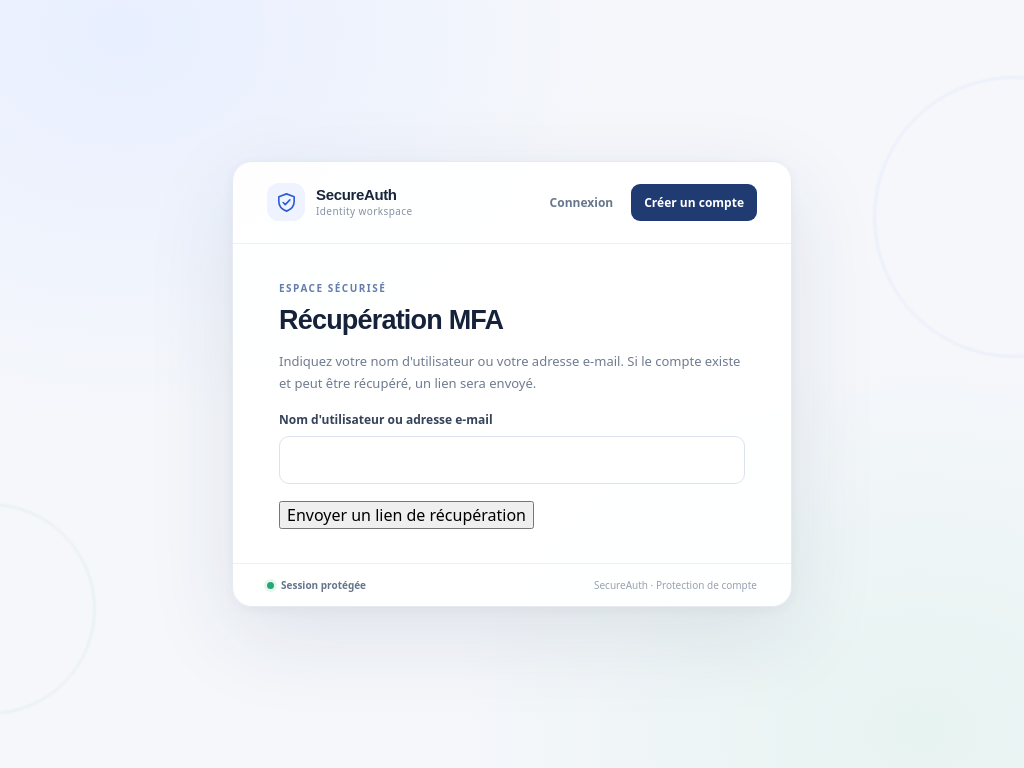
Test: frontend security behavior › requests MFA recovery with an identifier and does not reveal account existence
In the field labelled "Nom d'utilisateur ou adresse e-mail": (512, 460) x1=279 y1=436 x2=745 y2=484, type "alice@example.test"
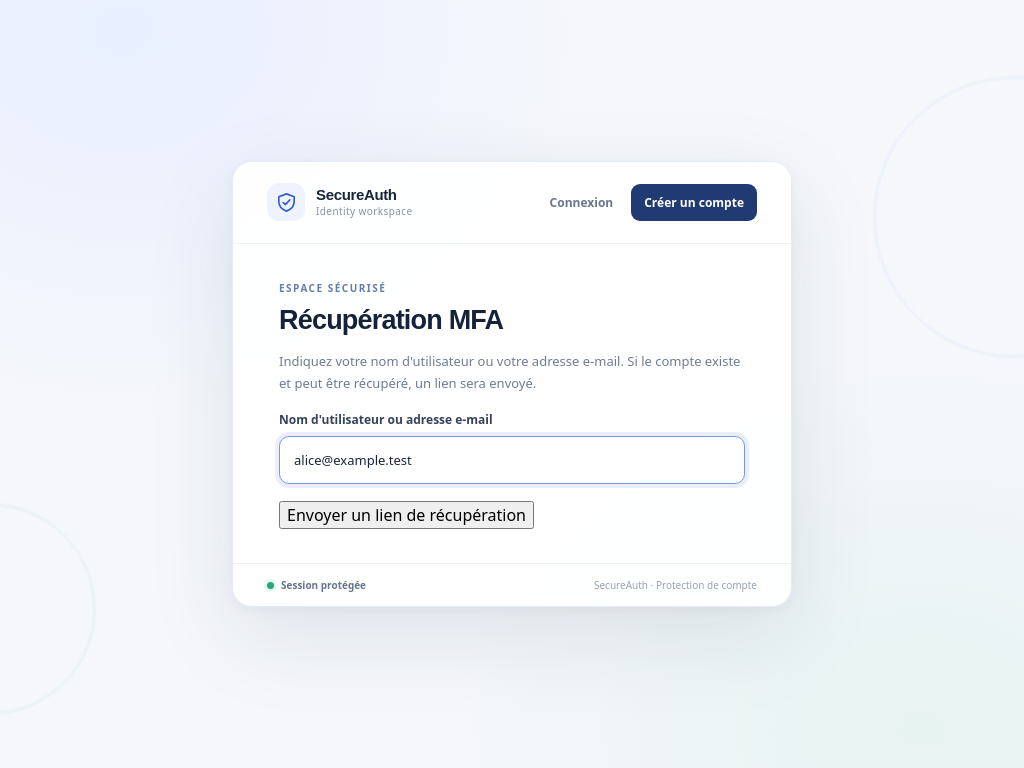
Click the button "Envoyer un lien de récupération": (406, 515) x1=279 y1=501 x2=534 y2=529
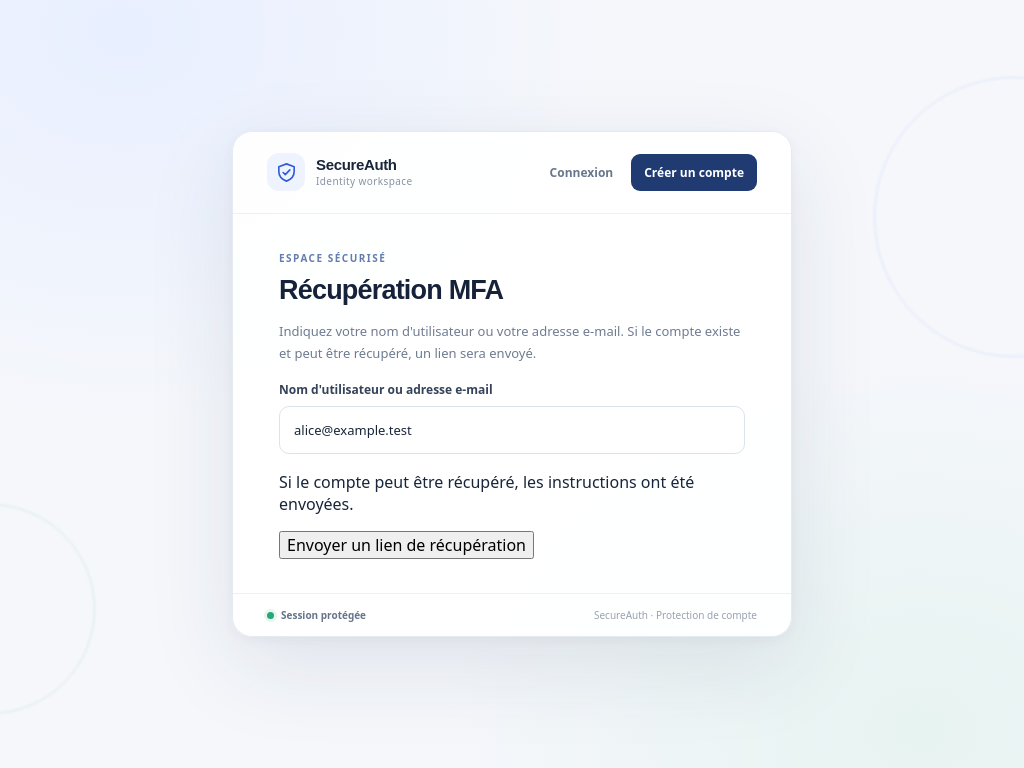
Expected: the message shows "Si le compte peut être récupéré", x1=279 y1=471 x2=694 y2=515
